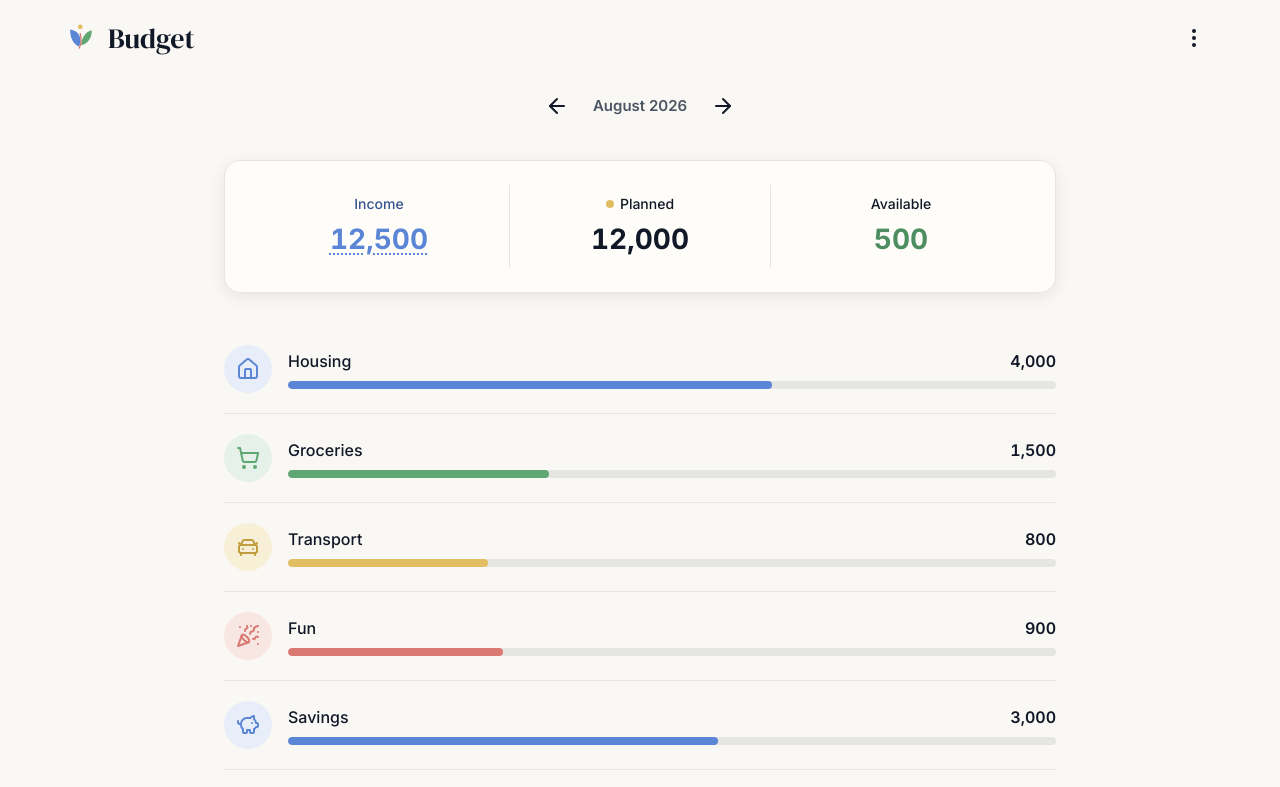
Test: BudgetPage › opens the income popup from the income value and PATCHes incomeMinor (CR1-5)
Click the button named "Edit income, current value 12,500".
click(379, 239)  # box top-left (322, 214), bottom-right (436, 264)
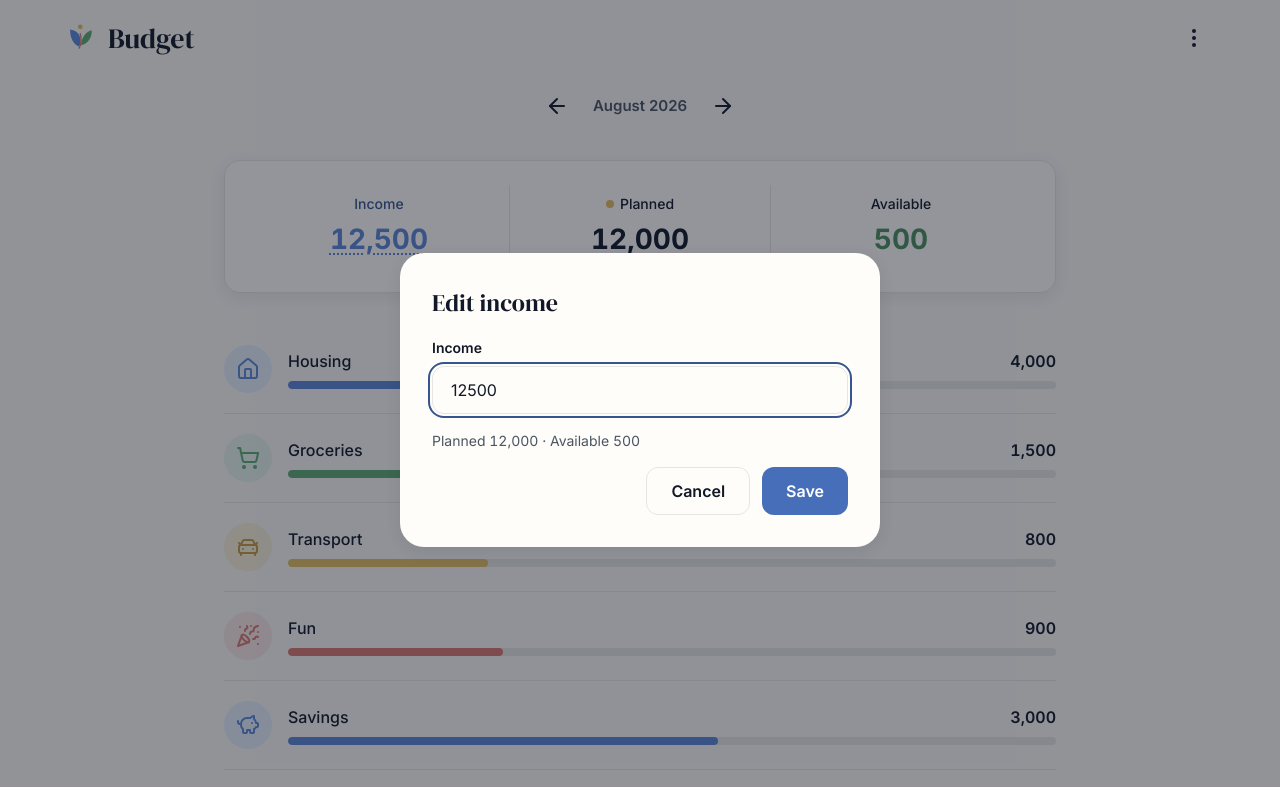
Check: the field labelled "Income" holds "12500"
Replace the text in the field labelled "Income" with "13000" at (640, 390), box top-left (449, 377), bottom-right (831, 403)
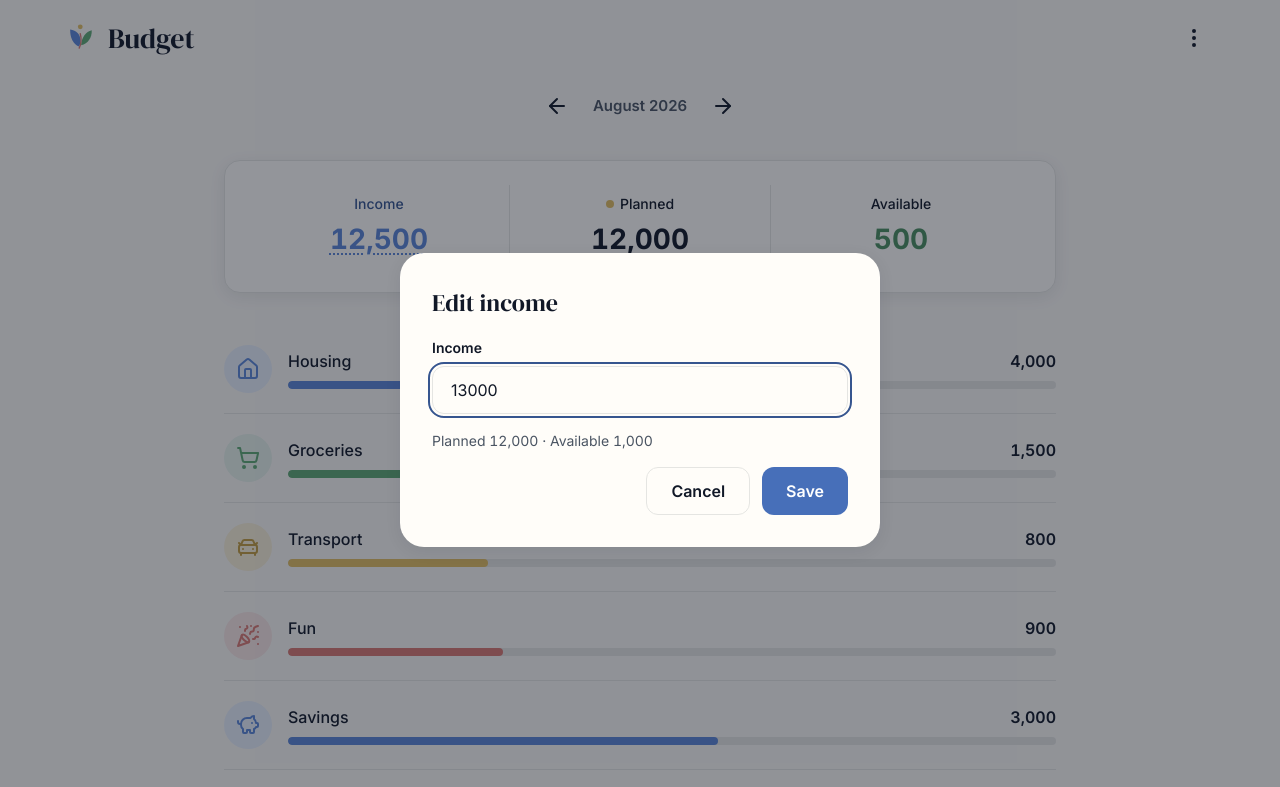
Click the button "Save".
click(805, 491)  # box top-left (762, 467), bottom-right (848, 515)
(page scrolled)
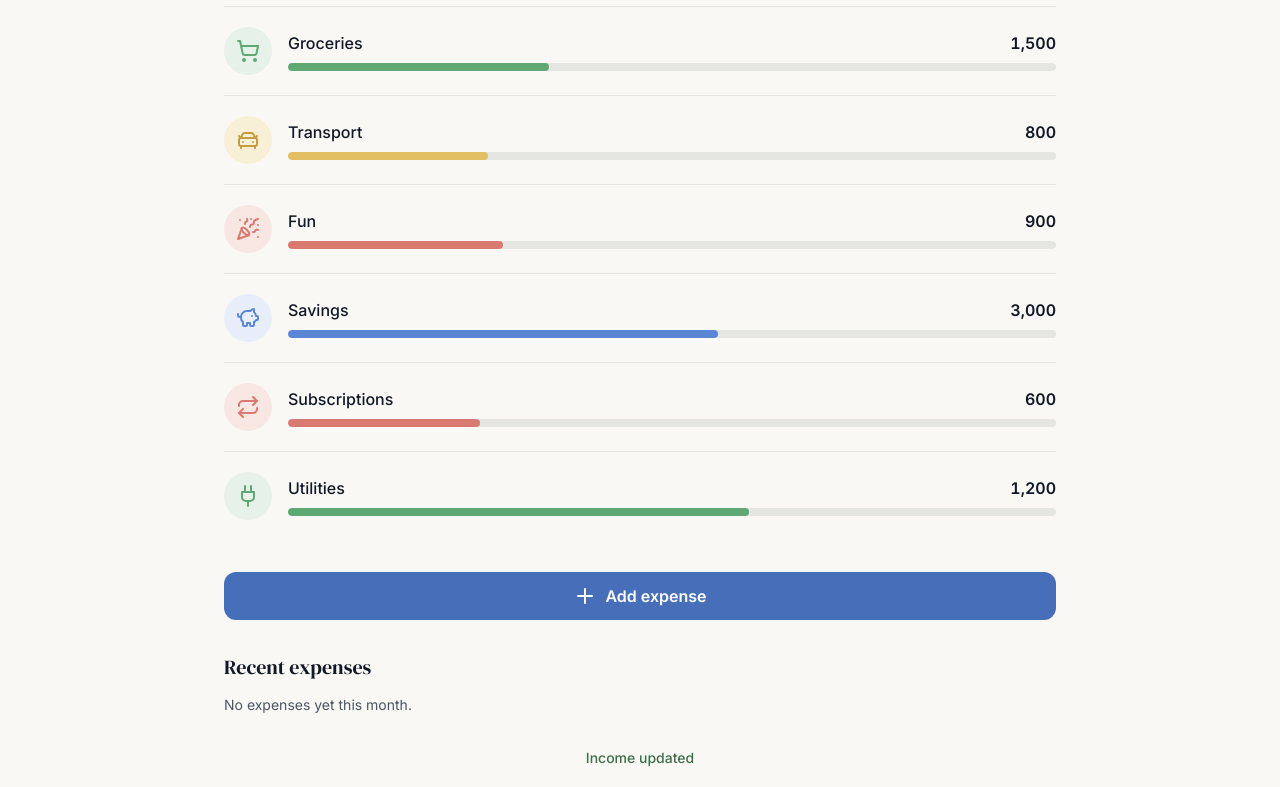
Check: the heading "Edit income" is gone
Check: the text "Income updated" is shown, box top-left (586, 749), bottom-right (694, 766)
